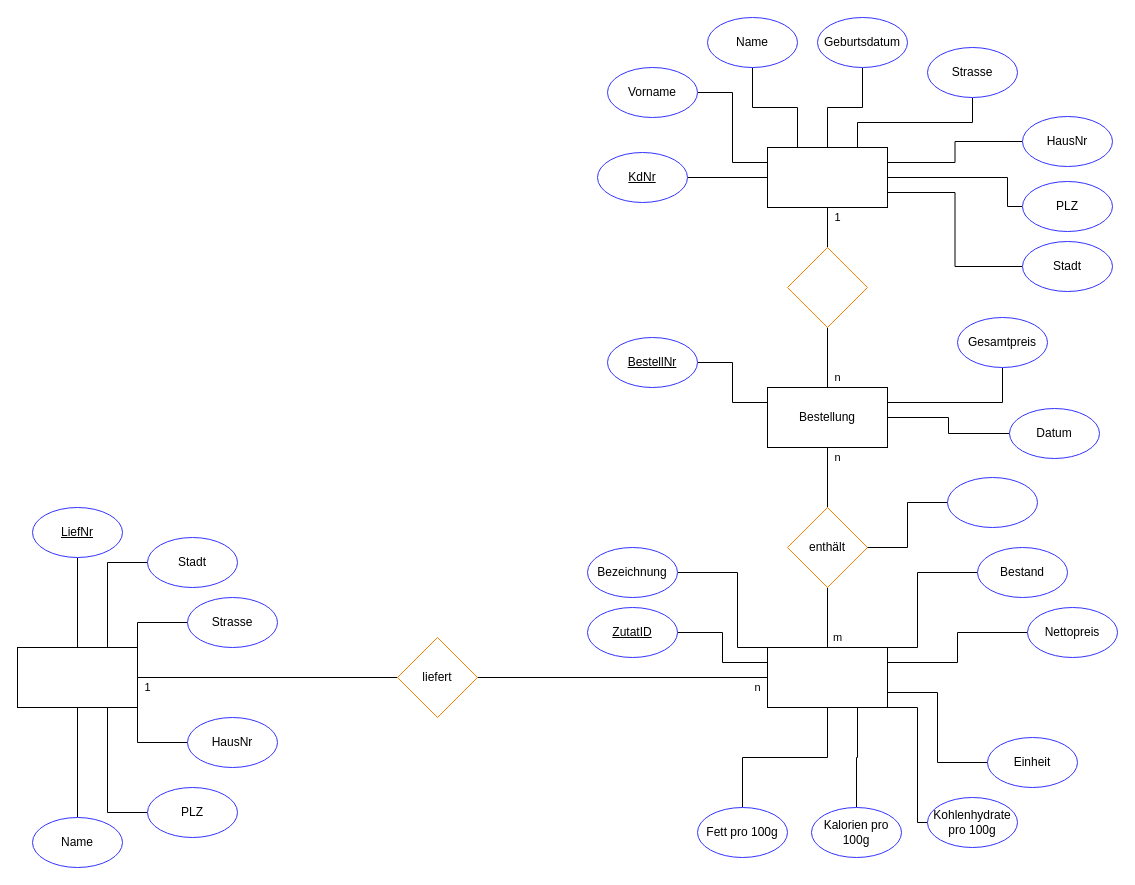
Some shapes in this 1135 by 885 pixel diagram are drawn without their labels. The centre of each missing label's shape, as x and y in pixels:
Kunde: point 827,177
Lieferant: point 77,677
Menge: point 992,502
tätigt: point 827,287
Zutat: point 827,677
